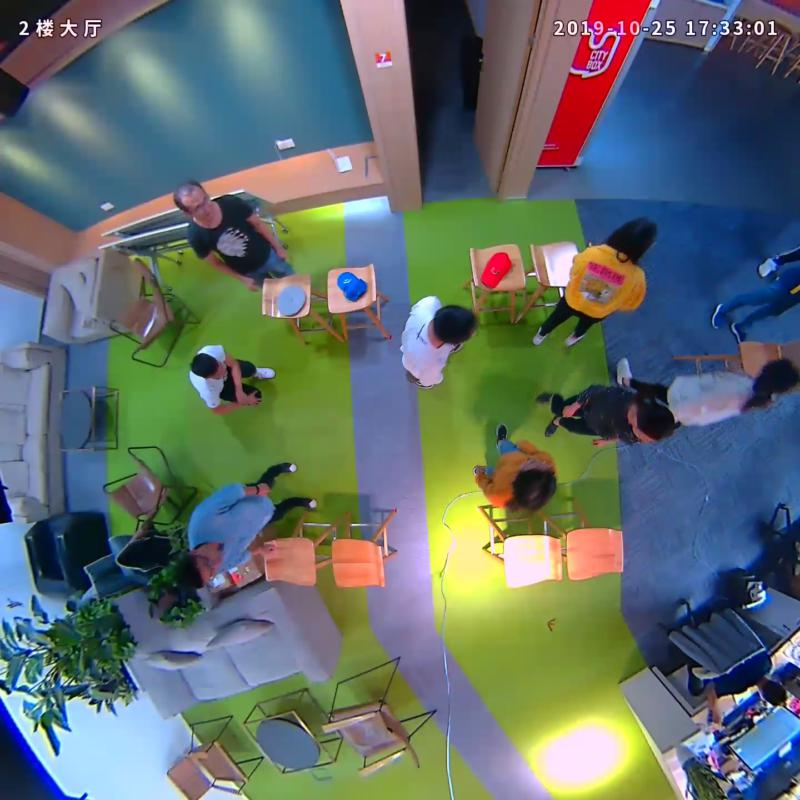head: (621, 392, 682, 454), (510, 457, 568, 515), (421, 300, 483, 354), (607, 214, 668, 268), (166, 176, 221, 229), (167, 546, 218, 597), (751, 358, 799, 408), (185, 349, 228, 387)
